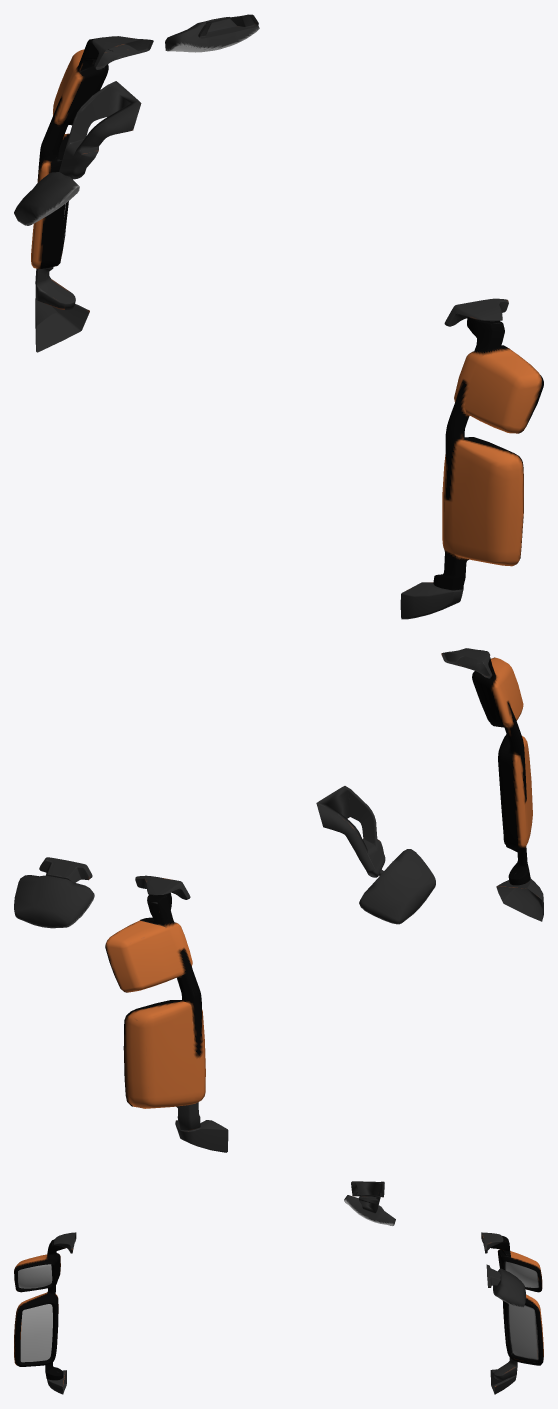
The model's file is Cabin_Standard_Mirrors.glb.
3 renders of one model, top to bottom at view 1: azimuth 30°, elevation 25°; view 2: azimuth 150°, elevation 25°; view 3: azimuth 270°, elevation 25°, orthographic. The views are drawn at different scales.
Parts seen in each view (by area): view 1: Cabin:Standard_Mirrors; view 2: Cabin:Standard_Mirrors; view 3: Cabin:Standard_Mirrors.
Boxes of the visible parts, box(x1,y1,x2,y2) form: Cabin:Standard_Mirrors: box(14, 14, 543, 619); Cabin:Standard_Mirrors: box(14, 648, 543, 1152); Cabin:Standard_Mirrors: box(14, 1181, 543, 1394).
Bounding box in the file's own units: 1.33 × 1.23 × 2.98.
1 material, 1 textured.
